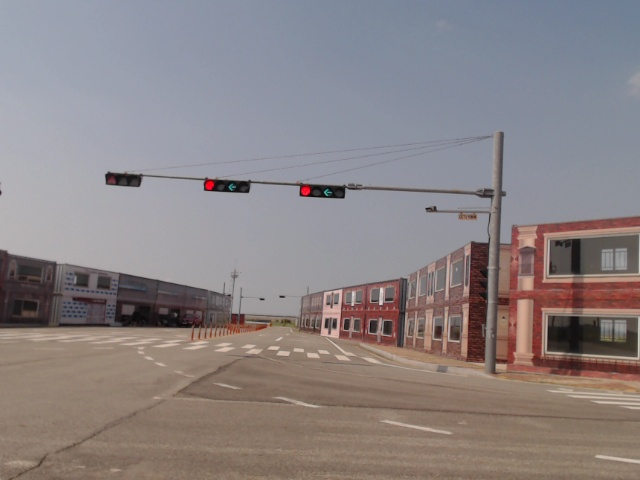left_green_4: (301, 185, 345, 198), (205, 180, 248, 193)
